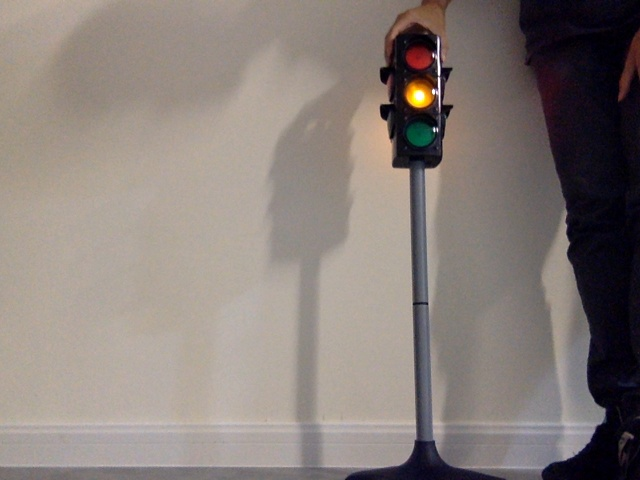yellow: (393, 42, 438, 148)
